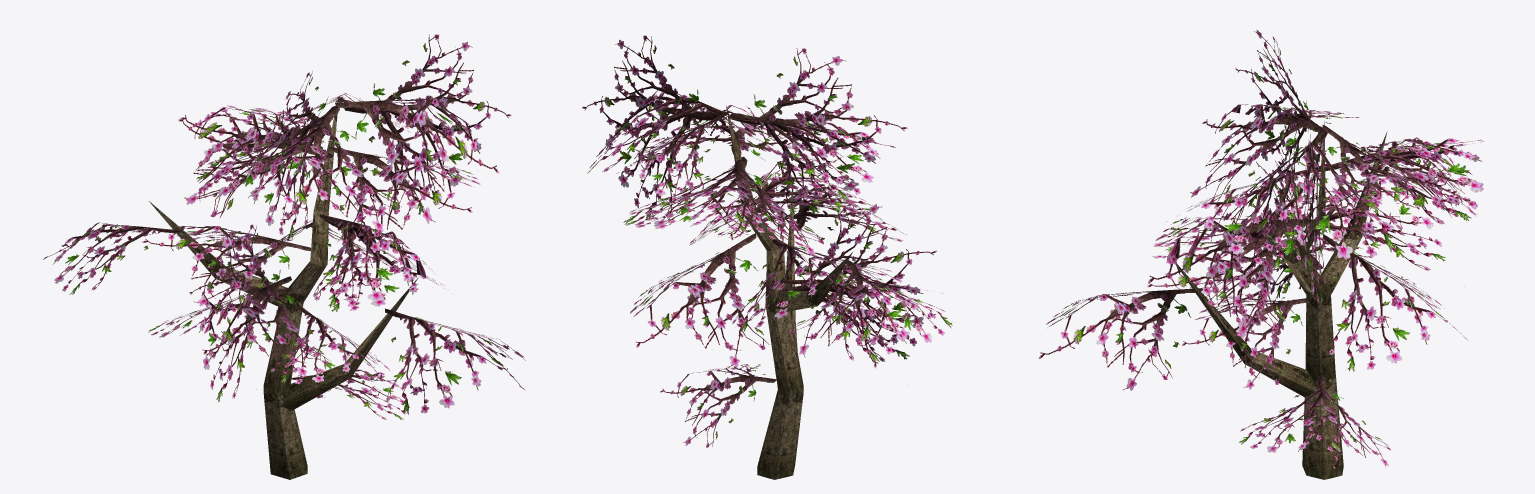
The model's file is GYxinshoucuntaoshu02.FBX.
The picture shows the model from 3 angles, left to right: view 1: azimuth 30°, elevation 25°; view 2: azimuth 150°, elevation 25°; view 3: azimuth 270°, elevation 25°; orthographic projection. The views are drawn at different scales.
Parts seen in each view (by area): view 1: Group002, ____3_mesh_0_2315; view 2: Group002, ____3_mesh_0_2315; view 3: Group002, ____3_mesh_0_2315.
Part boxes in pixels (<box>): Group002: <box>43,34,525,420</box>; ____3_mesh_0_2315: <box>149,95,419,479</box>; Group002: <box>582,35,952,447</box>; ____3_mesh_0_2315: <box>726,105,852,479</box>; Group002: <box>1038,30,1484,468</box>; ____3_mesh_0_2315: <box>1178,121,1387,479</box>.
Size of the model in its own units: 8.07 by 7.64 by 7.95.
